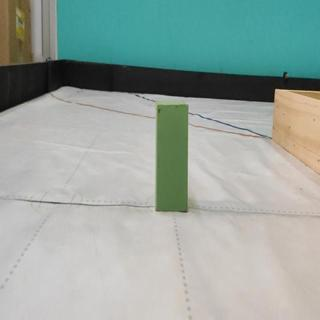greenbox: (153, 101, 192, 214)
